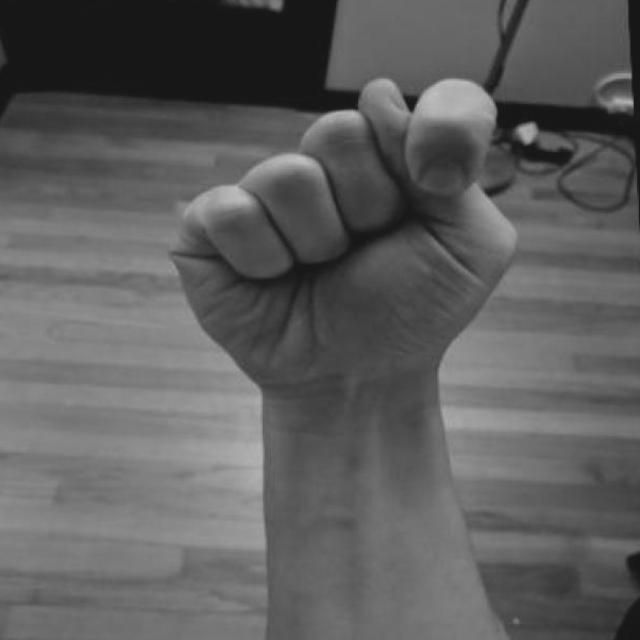T: (160, 57, 539, 476)
